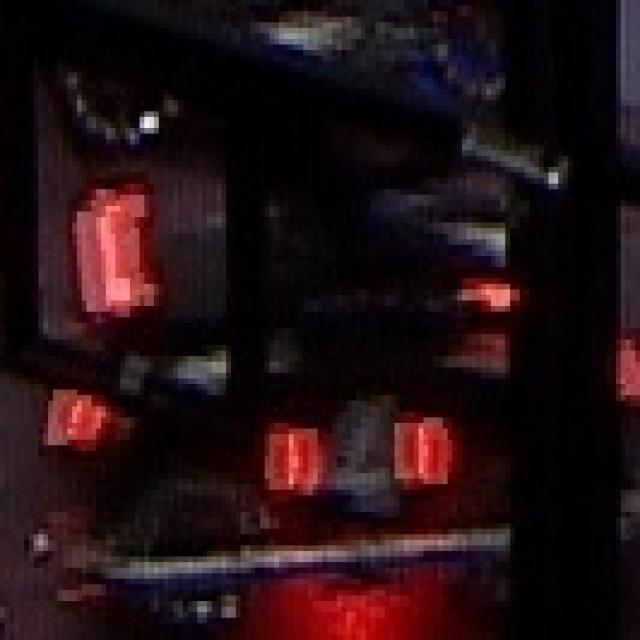R4: (265, 401, 452, 512)
